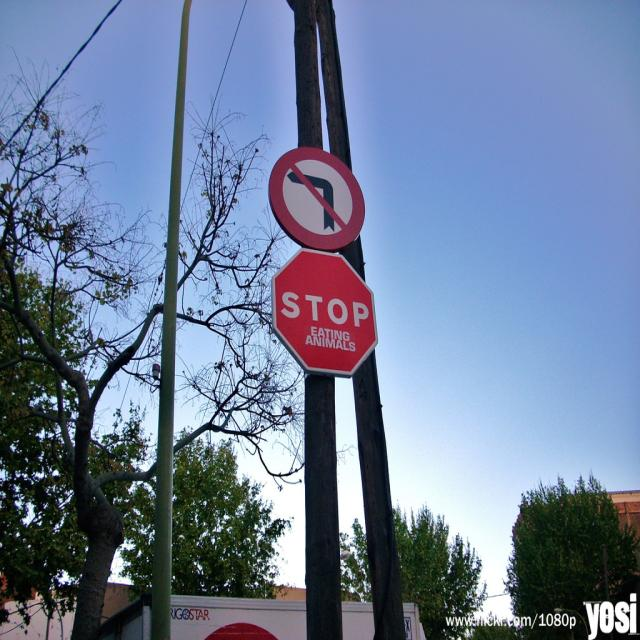Stop-sign: (271, 244, 378, 378)
